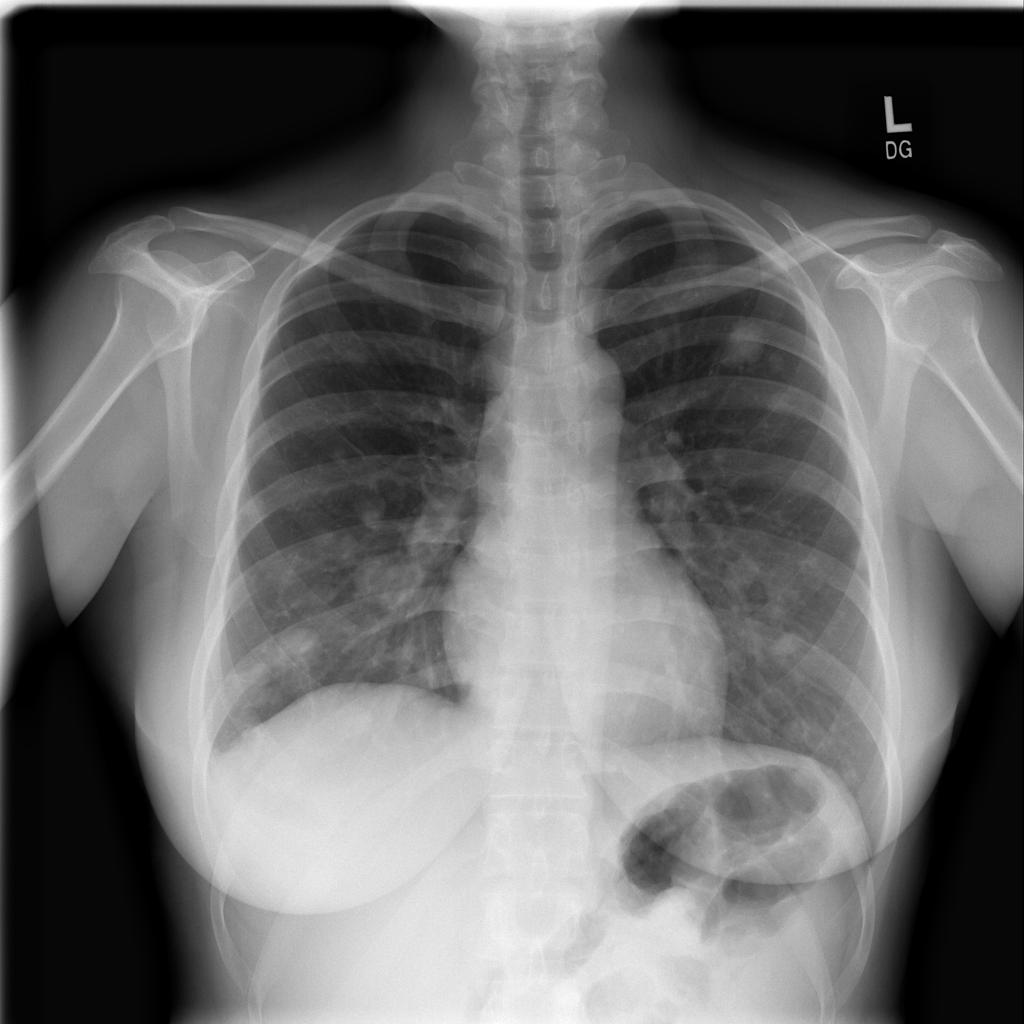nodule: (709, 304, 783, 378), (318, 685, 390, 755), (263, 612, 336, 677), (351, 551, 427, 613), (777, 708, 833, 759), (754, 371, 807, 422), (762, 624, 815, 674), (348, 483, 398, 532)
